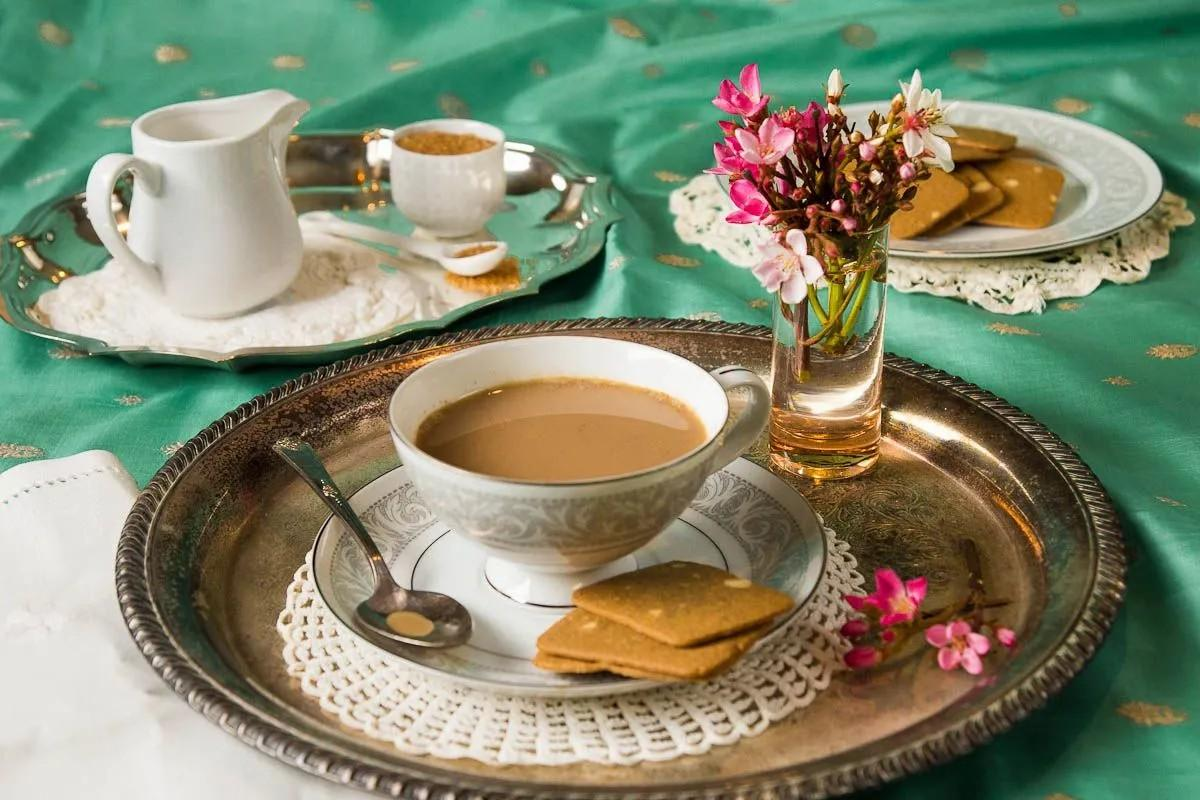Chai: (416, 374, 708, 484)
